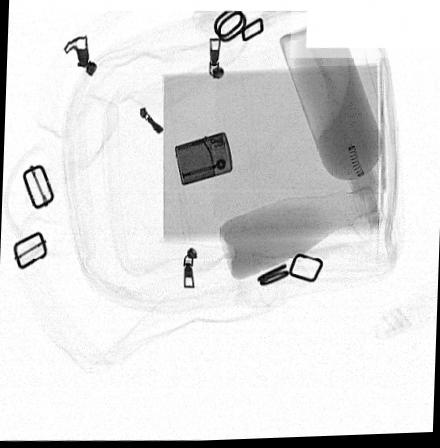Lighter: (173, 132, 231, 186)
